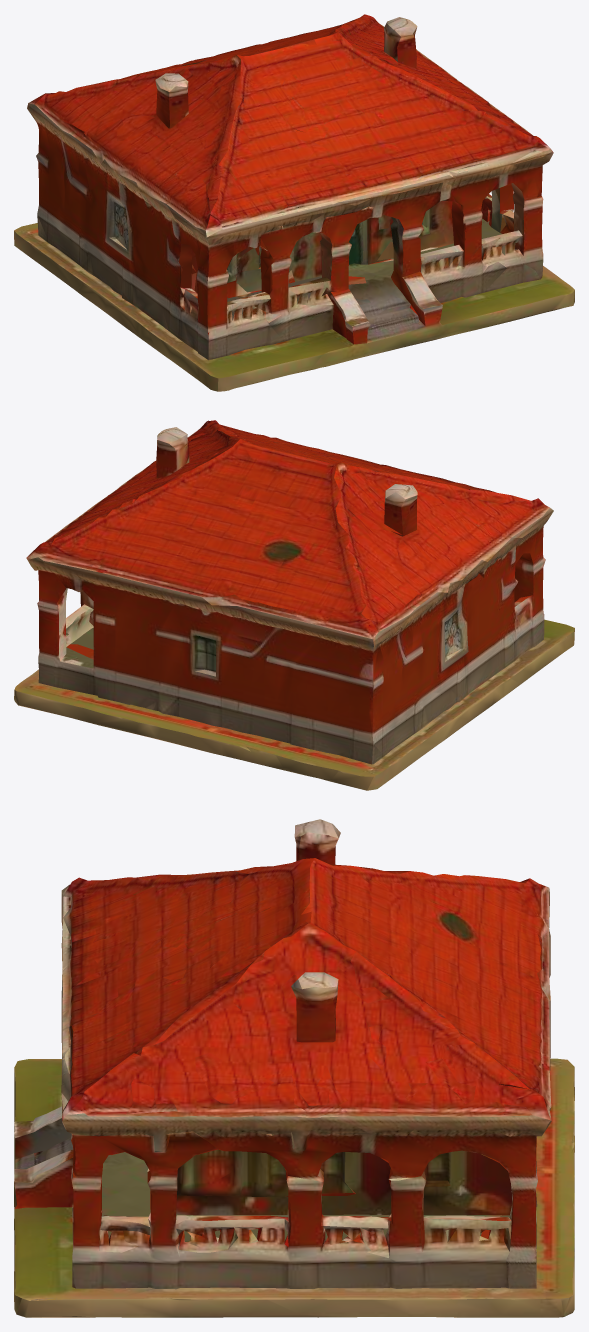
The model's file is british-consulate-takao.glb.
3 views of the same model, one above another, from view 1: azimuth 30°, elevation 25°; view 2: azimuth 150°, elevation 25°; view 3: azimuth 270°, elevation 25° (orthographic). The views are drawn at different scales.
Visible parts, largest first — view 1: logan-textured.obj; view 2: logan-textured.obj; view 3: logan-textured.obj.
Boxes of the visible parts, x1=… form: logan-textured.obj: x1=14, y1=14, x2=574, y2=391; logan-textured.obj: x1=14, y1=420, x2=574, y2=790; logan-textured.obj: x1=14, y1=819, x2=574, y2=1317.
Size of the model in its own units: 1 by 0.5947 by 0.9848.
1 material, 1 textured.
